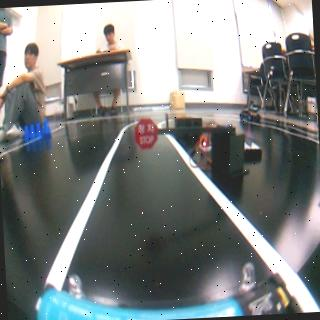stop: (134, 117, 157, 149)
